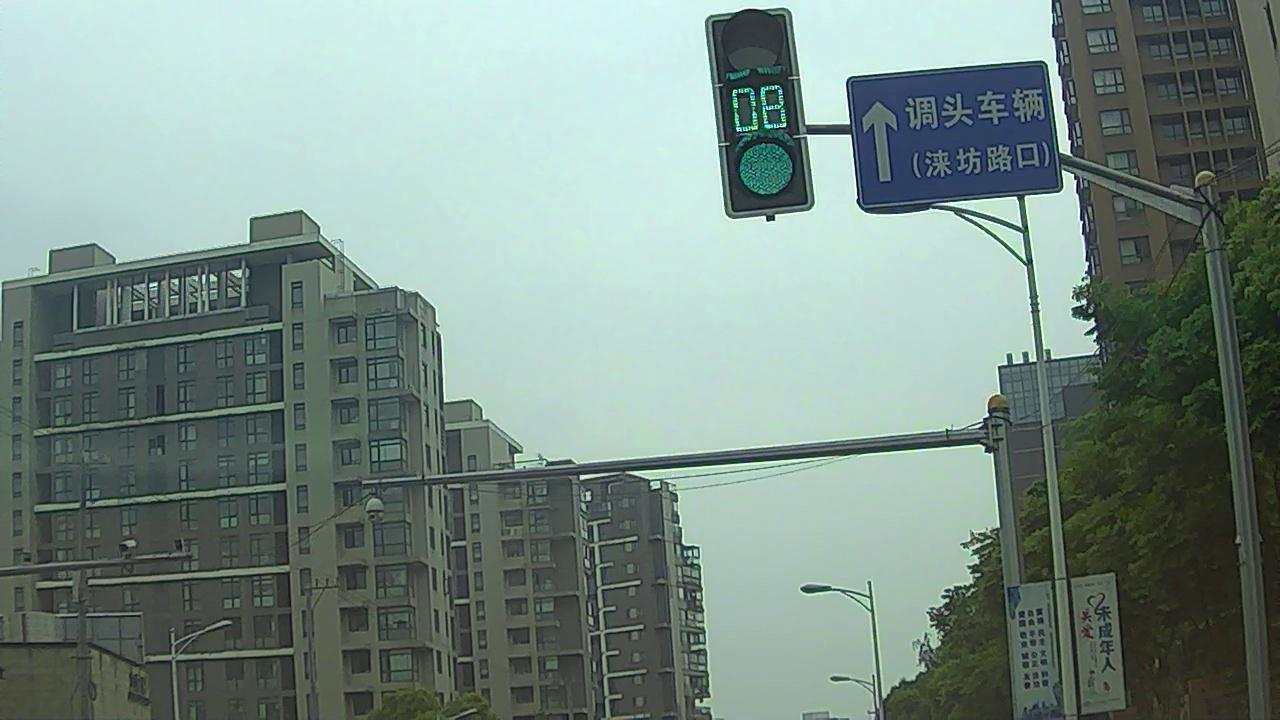traffic_light: (714, 14, 813, 208)
